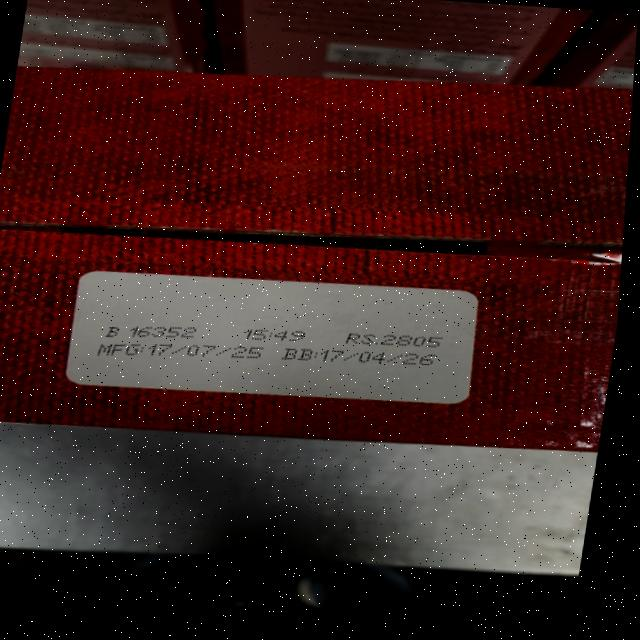BB: (284, 341, 445, 373)
Batch: (106, 321, 198, 344)
MFG: (95, 333, 266, 369)
RS: (344, 329, 449, 352)
TimeStamp: (241, 326, 309, 344)
